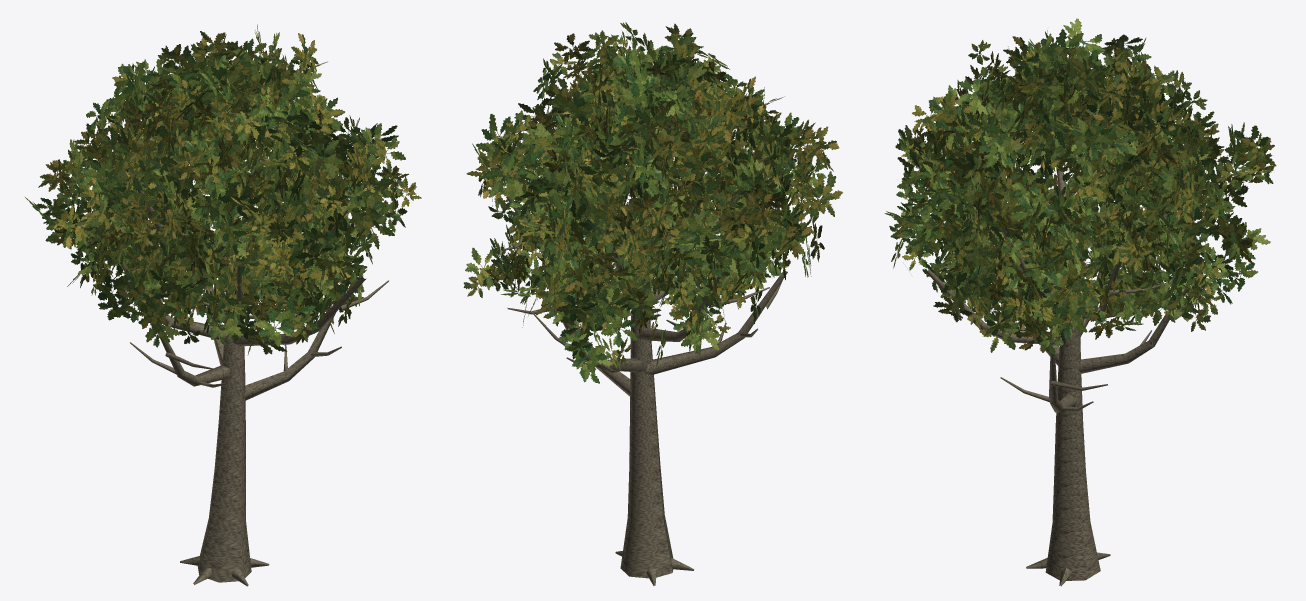
Rendered from PROJECT_Z_Temperate_Oak_Tree_LOD1.glb.
3 views of the same model, side by side, from view 1: azimuth 30°, elevation 25°; view 2: azimuth 150°, elevation 25°; view 3: azimuth 270°, elevation 25° (orthographic).
Visible parts, largest first — view 1: LOD1_06_CanopySector_02_AlphaMasked, LOD1_05_CanopySector_01_AlphaMasked, LOD1_08_CanopySector_04_AlphaMasked, LOD1_01_Trunk_OakBark, LOD1_07_CanopySector_03_AlphaMasked, LOD1_03_PrimaryLimbs_10, LOD1_04_SecondaryTwigs_20, LOD1_02_RootFlare_5Parts; view 2: LOD1_08_CanopySector_04_AlphaMasked, LOD1_07_CanopySector_03_AlphaMasked, LOD1_06_CanopySector_02_AlphaMasked, LOD1_01_Trunk_OakBark, LOD1_05_CanopySector_01_AlphaMasked, LOD1_03_PrimaryLimbs_10, LOD1_04_SecondaryTwigs_20; view 3: LOD1_05_CanopySector_01_AlphaMasked, LOD1_07_CanopySector_03_AlphaMasked, LOD1_06_CanopySector_02_AlphaMasked, LOD1_08_CanopySector_04_AlphaMasked, LOD1_01_Trunk_OakBark, LOD1_03_PrimaryLimbs_10, LOD1_04_SecondaryTwigs_20.
Part boxes in pixels (box(x1,y1,x2,y2)): LOD1_06_CanopySector_02_AlphaMasked: box(53, 59, 319, 355); LOD1_05_CanopySector_01_AlphaMasked: box(208, 32, 421, 340); LOD1_08_CanopySector_04_AlphaMasked: box(25, 44, 225, 322); LOD1_01_Trunk_OakBark: box(197, 202, 251, 582); LOD1_07_CanopySector_03_AlphaMasked: box(118, 24, 377, 279); LOD1_03_PrimaryLimbs_10: box(116, 138, 375, 400); LOD1_04_SecondaryTwigs_20: box(119, 192, 388, 387); LOD1_02_RootFlare_5Parts: box(180, 556, 269, 586); LOD1_08_CanopySector_04_AlphaMasked: box(550, 60, 811, 383); LOD1_07_CanopySector_03_AlphaMasked: box(463, 36, 654, 346); LOD1_06_CanopySector_02_AlphaMasked: box(641, 33, 842, 323); LOD1_01_Trunk_OakBark: box(620, 197, 673, 578); LOD1_05_CanopySector_01_AlphaMasked: box(481, 22, 726, 281); LOD1_03_PrimaryLimbs_10: box(506, 159, 787, 396); LOD1_04_SecondaryTwigs_20: box(503, 241, 782, 373); LOD1_05_CanopySector_01_AlphaMasked: box(884, 51, 1092, 356); LOD1_07_CanopySector_03_AlphaMasked: box(1057, 52, 1273, 339); LOD1_06_CanopySector_02_AlphaMasked: box(891, 29, 1090, 304); LOD1_08_CanopySector_04_AlphaMasked: box(1052, 18, 1276, 304); LOD1_01_Trunk_OakBark: box(1045, 209, 1100, 580); LOD1_03_PrimaryLimbs_10: box(926, 158, 1201, 412); LOD1_04_SecondaryTwigs_20: box(944, 275, 1206, 410).
Bounding box in the file's own units: 7.89 × 11.31 × 7.74.
Materials: 2 (2 with a texture image).
